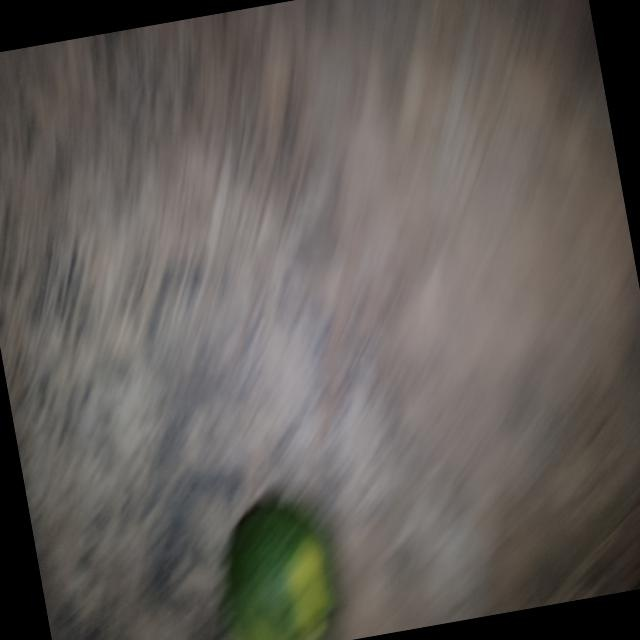agrume: (198, 494, 360, 640)
